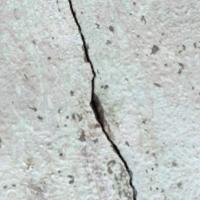crack: (55, 0, 147, 199)
